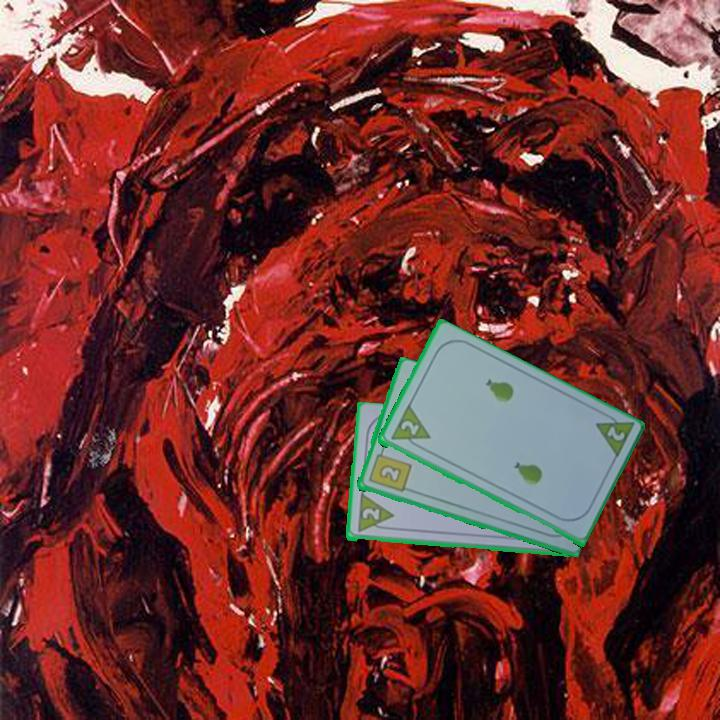2b: (365, 445, 413, 495)
2p: (591, 408, 636, 462), (354, 492, 396, 535), (397, 417, 422, 439)
